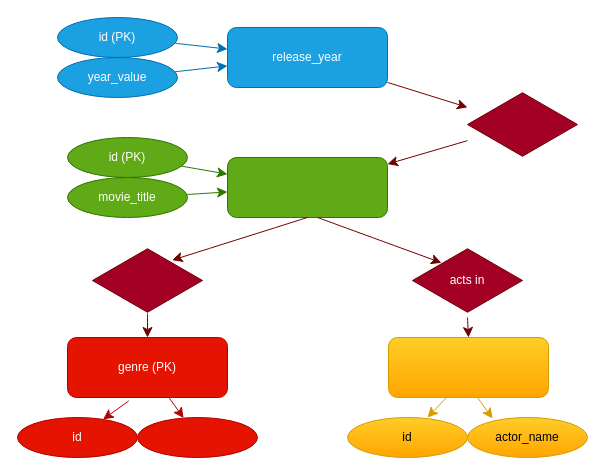
The diagram is 605 pixels wide and 475 high, and some of its shapes have lost their labels. The centre of each missing label's shape, as x and y in pixels:
"actor (PK)" goes at point (468, 367).
"belongs to" goes at point (522, 124).
"genre_type" goes at point (197, 437).
"has genre" goes at point (147, 280).
"movie" goes at point (307, 187).
